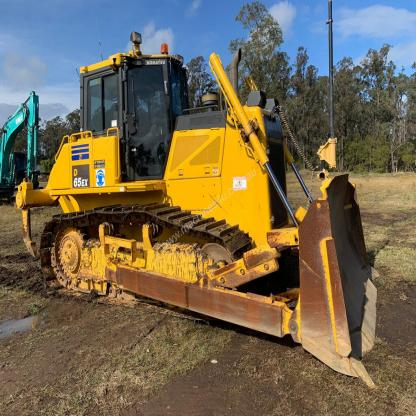bull_dozer/loader/grader: (18, 42, 394, 397)
